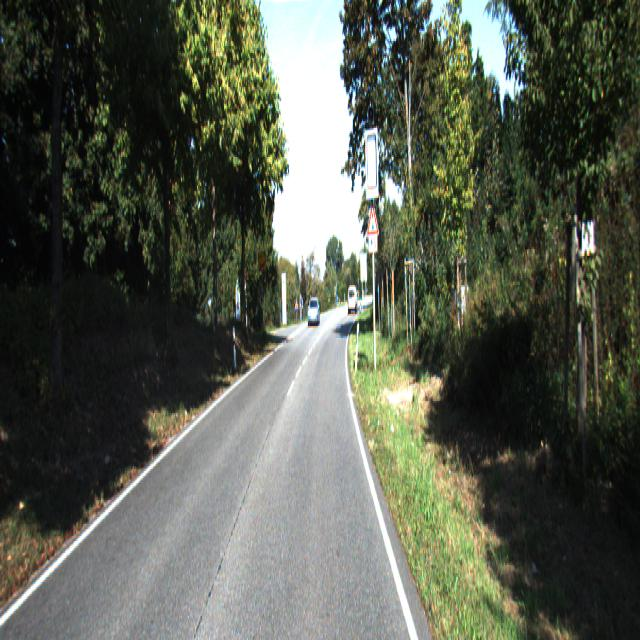Car: (308, 298, 320, 328)
